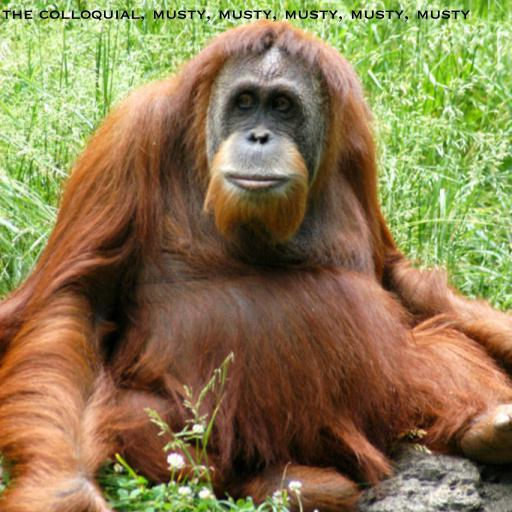Copperplate: (2, 10, 470, 22)
